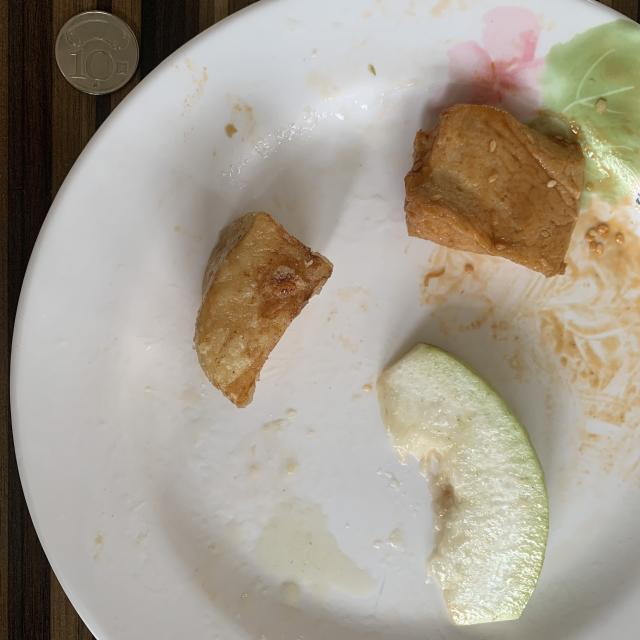coin: (55, 11, 139, 95)
creamy tofu: (404, 104, 585, 276)
fried potato: (194, 211, 332, 408)
guava -sliced-: (378, 344, 549, 625)
